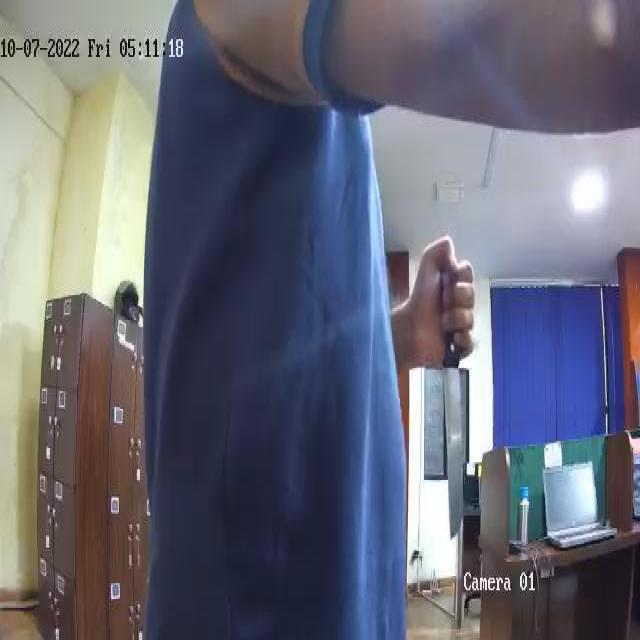Knife: (439, 262, 466, 550)
